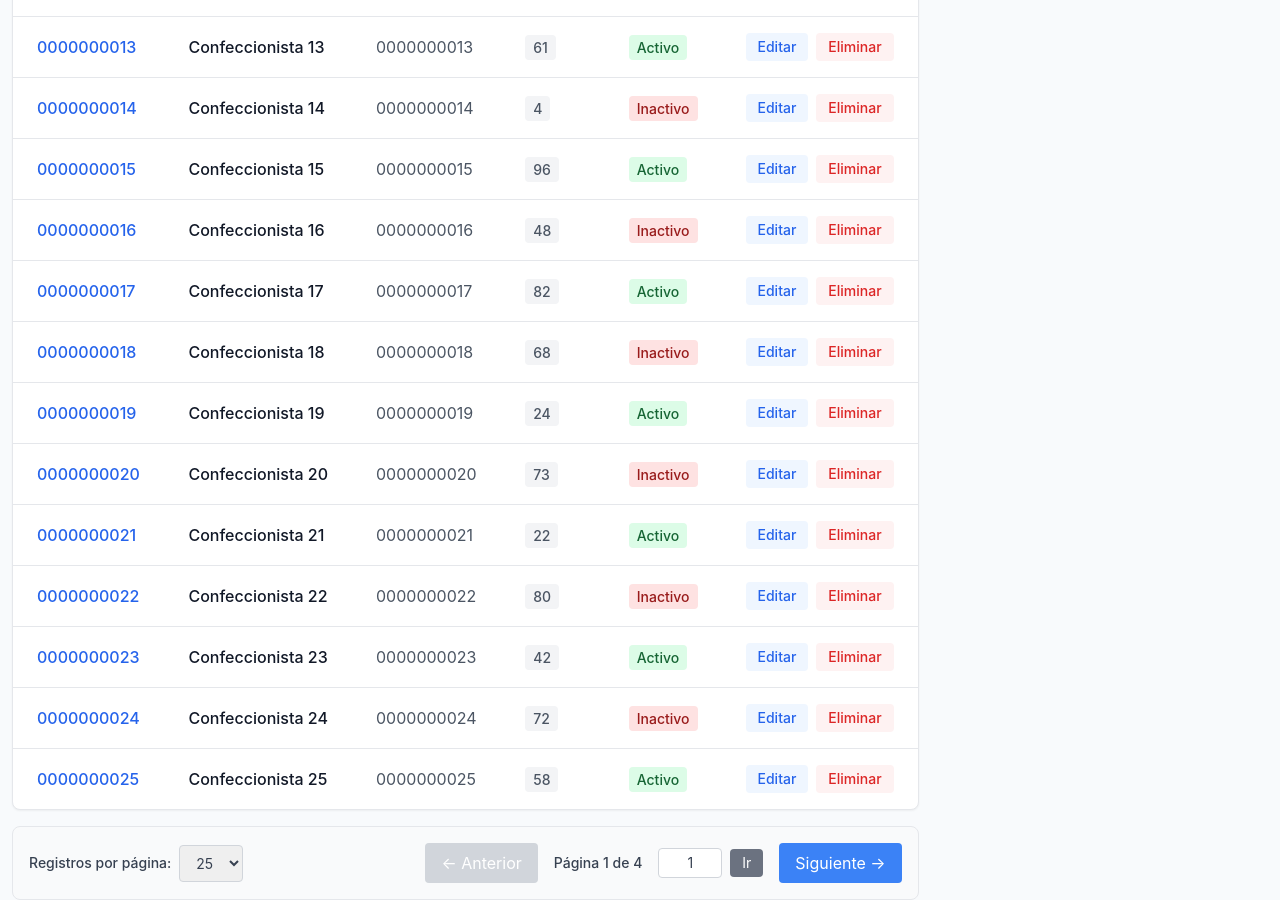
ConfeccionistasModule Unit Tests › Pagination › should navigate to next page
This screenshot has width=1280, height=900.
(page scrolled)
Click the button "Siguiente →".
click(840, 863)  # box [779, 843, 902, 883]
(page scrolled)
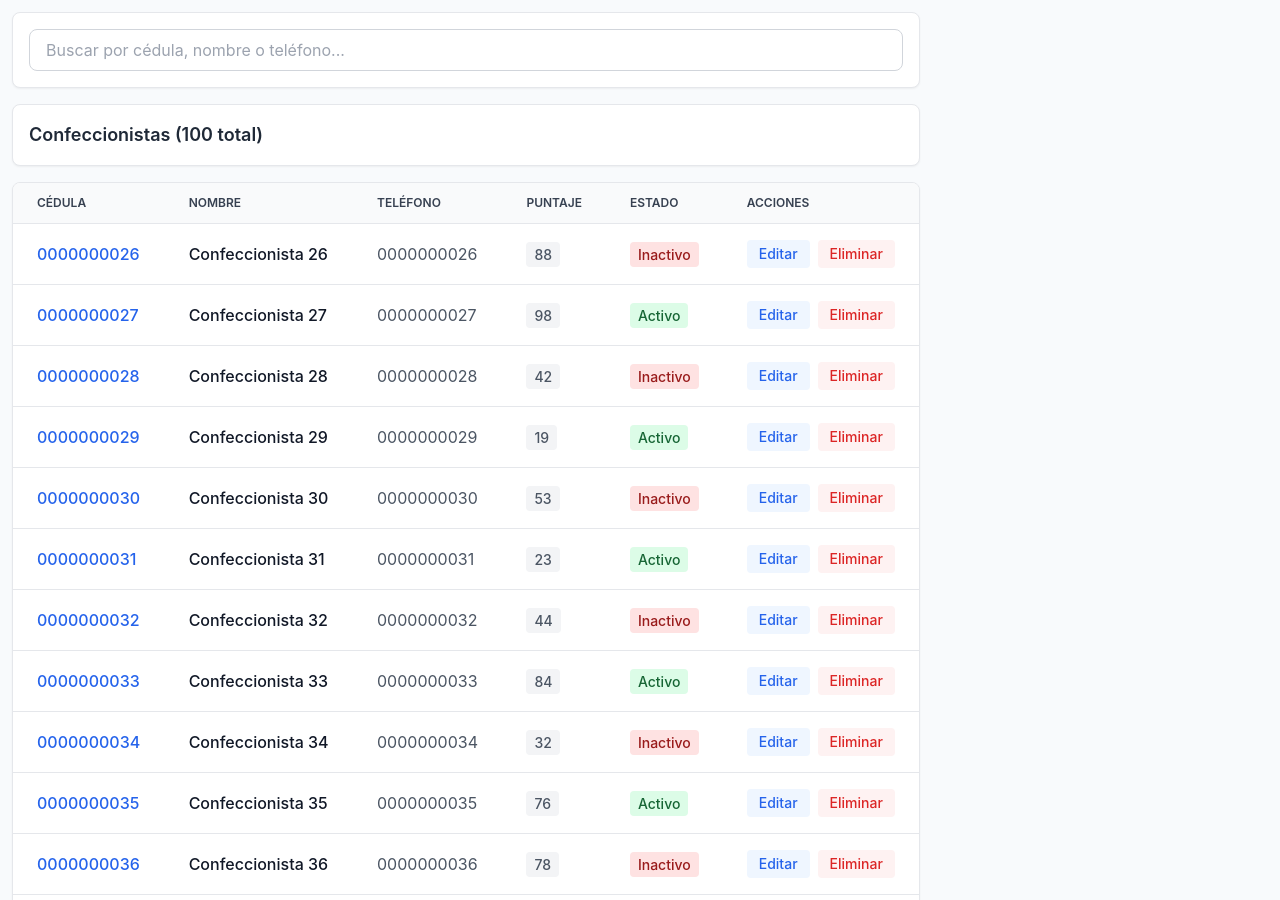
Check: the text "Confeccionista 26" is shown, box [165, 224, 353, 284]
